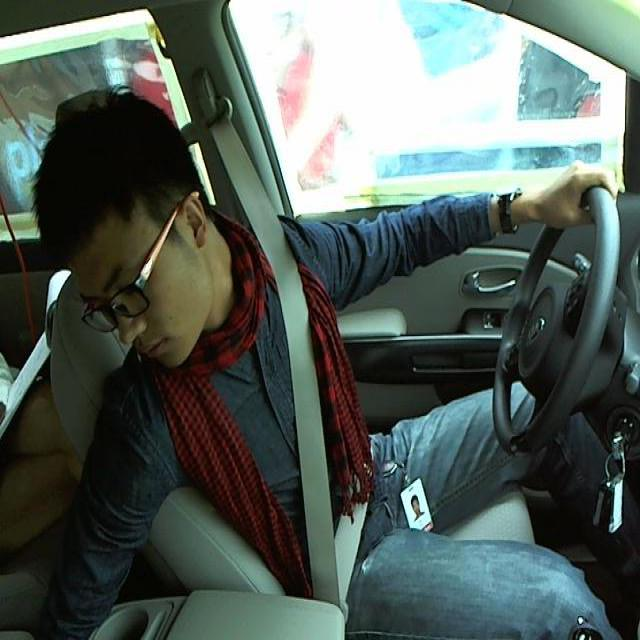seatbelt: (239, 215, 366, 600)
